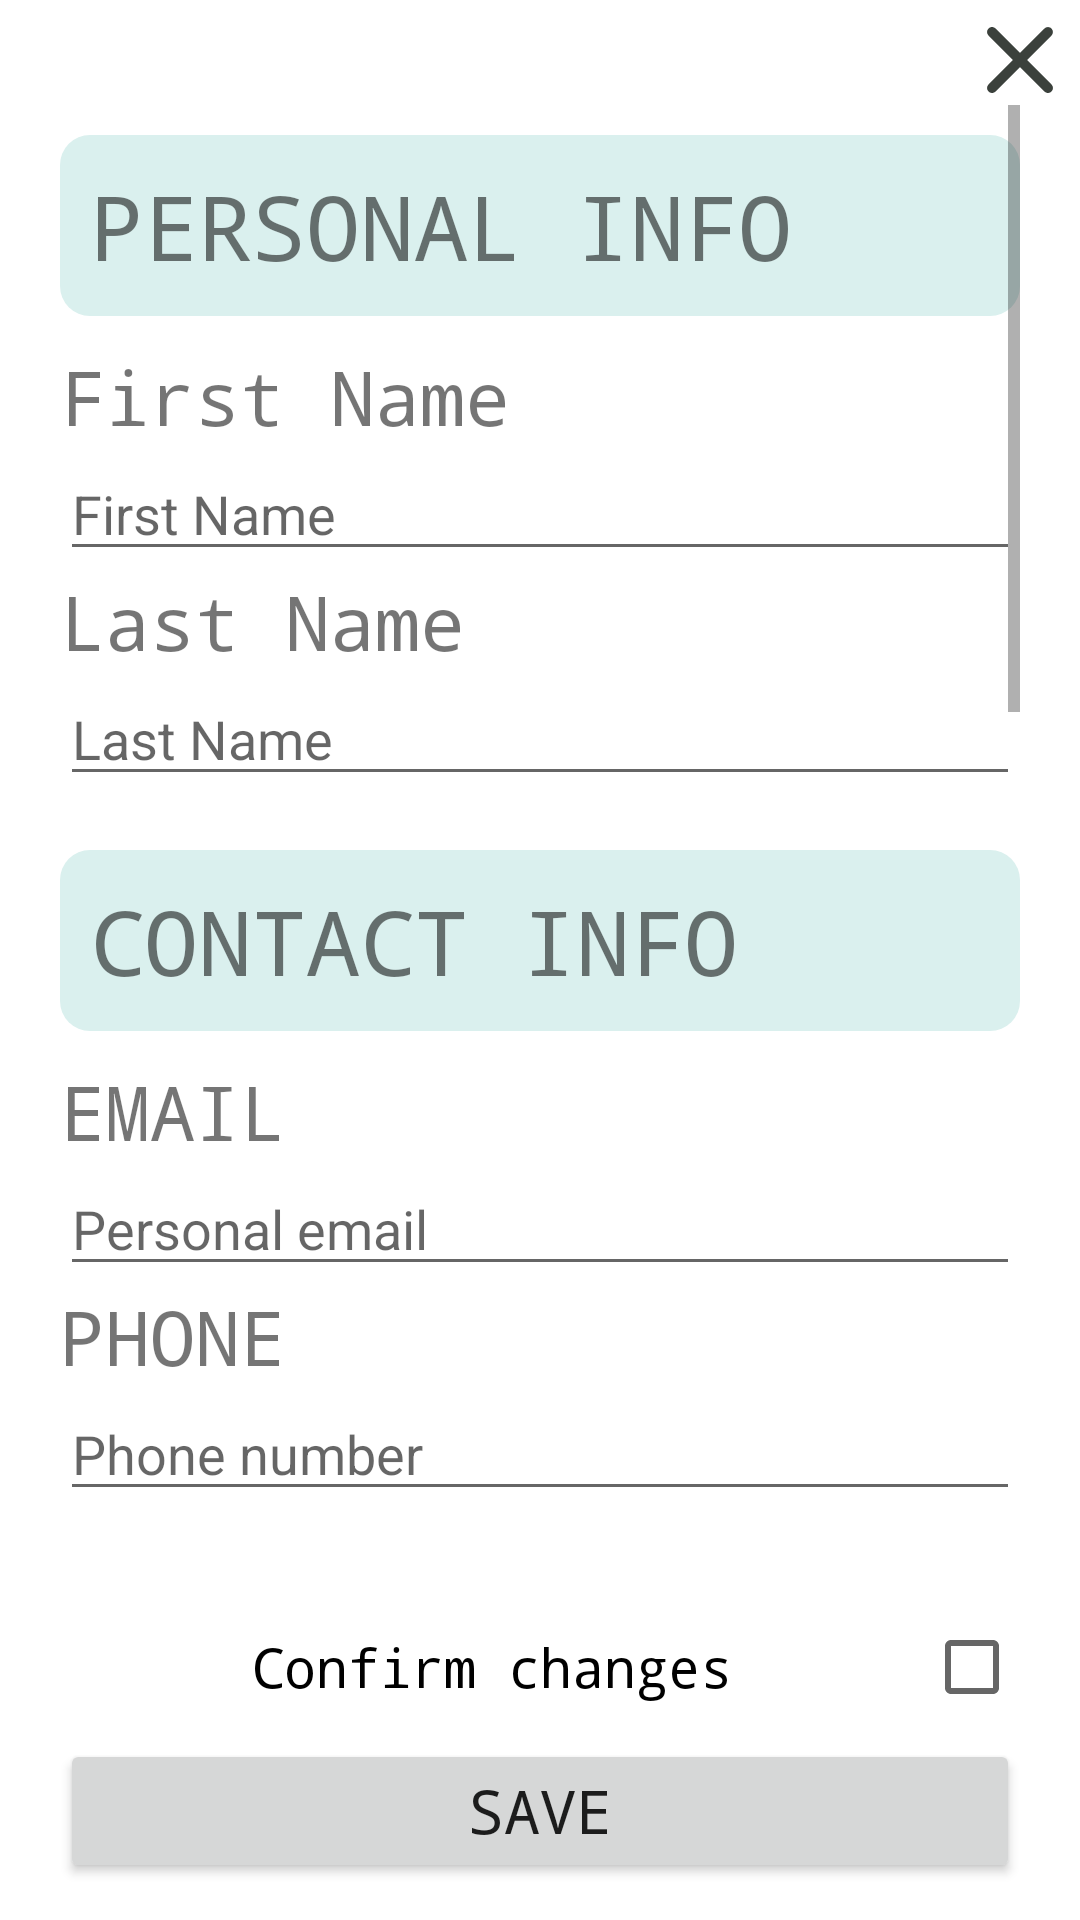

Named icons in this screenshot (1080 × 1920) and their bounding boxes, {"left": x1, "top": y1, "right": x2, "bottom": y2}:
close: {"left": 987, "top": 27, "right": 1053, "bottom": 93}
